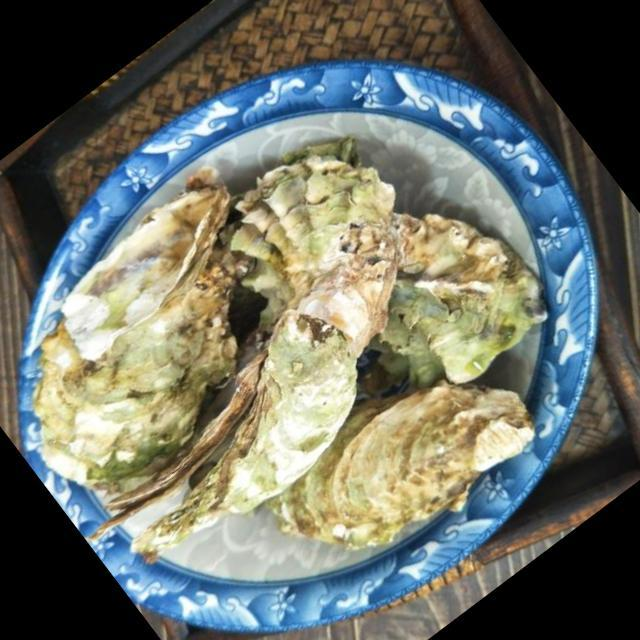Oyster- Indeterminate: (0, 166, 338, 528), (238, 318, 548, 602), (312, 174, 564, 423)
Oyster-Open: (0, 117, 497, 603)
